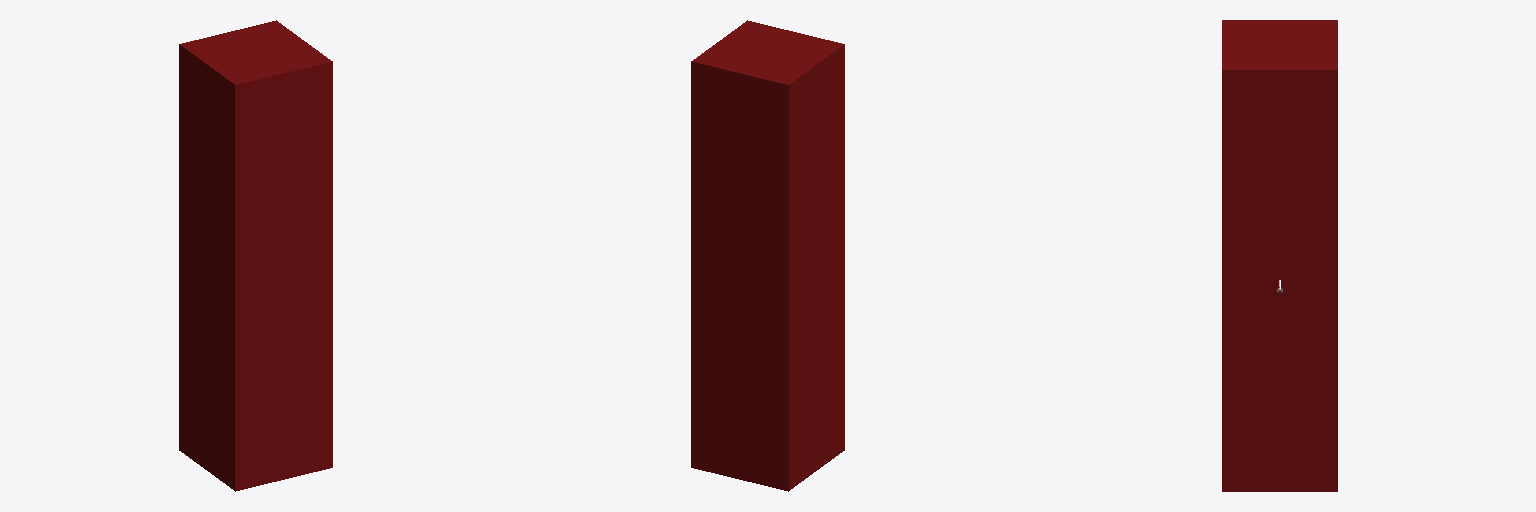
robot.urdf — valve:
<?xml version="1.0"?>
<robot name="valve">
  <link name="valve_base_link">
    <visual>
      <geometry>
        <box size="0.5 0.5 2.0"/>
      </geometry>
      <material name="redish">
	<color rgba="0.5 0.1 0.1 0.5"/>
      </material>
    </visual>
    <collision>
      <geometry>
        <box size="0.5 .5 2.0"/>
      </geometry>
    </collision>
    <inertial>
      <origin xyz="0 0 0"/>
      <mass value="10"/>
      <inertia ixx="1.0" ixy="0.0" ixz="0.0" iyy="1.0" iyz="0.0" izz="1.0"/>
    </inertial>
  </link>

  <link name="handle">
    <visual>
      <geometry>
	<mesh filename="package://wpi_drc_sim/meshes/valve_models/silver-valve-8-star.dae" scale="0.05 0.05 0.05"/>
      </geometry>
    </visual>
    <collision>
      <geometry>
        <mesh filename="package://wpi_drc_sim/meshes/valve_models/silver-valve-8-star.stl" scale="0.05 0.05 0.05"/>
      </geometry>
    </collision>
    <inertial>
      <origin xyz="0 0 0"/>
      <mass value="0.1"/>
      <inertia ixx="1.0" ixy="0.0" ixz="0.0" iyy="1.0" iyz="0.0" izz="1.0"/>
    </inertial>
  </link>
  
  <link name="rod">
    <visual>
      <geometry>
	<cylinder length="0.1" radius="0.005"/>
      </geometry>
      <origin rpy="0 1.57075 0" xyz="0 0 0"/>
      <material name="whiteish">
	<color rgba="1.0 1.0 1.0 1.0"/>
      </material>
    </visual>
    <collision>
      <geometry>
	<cylinder length="0.1" radius="0.005"/>
      </geometry>
      <origin rpy="0 1.57075 0" xyz="0 0 0"/>
    </collision>
    <inertial>
      <origin xyz="0 0 0"/>
      <mass value="0.1"/>
      <inertia ixx="1.0" ixy="0.0" ixz="0.0" iyy="1.0" iyz="0.0" izz="1.0"/>
    </inertial>
  </link>

  <joint name="body_to_rod" type="fixed">
    <parent link="valve_base_link"/>
    <child link="rod"/>
    <origin xyz="0.3 0.0 0.0"/>
  </joint>

  <joint name="rod_to_handle" type="continuous">
    <parent link="rod"/>
    <child link="handle"/>
    <axis xyz="1 0 0"/>
    <origin xyz="0.05 0 0"/>
  </joint>

  <!--gazebo>
    <turnGravityOff>true</turnGravityOff>
    <static>true</static>
  </gazebo-->

</robot>

--- Facts derived from the render (not from the file) ---
Views: 3 orthographic renders of the robot side by side, from view 1: azimuth 30°, elevation 25°; view 2: azimuth 150°, elevation 25°; view 3: azimuth 270°, elevation 25°.
Model valve with 3 links and 2 joints (1 continuous, 1 fixed), rooted at valve_base_link, posed all joints at 0.
Links seen in each view (by area): view 1: valve_base_link; view 2: valve_base_link; view 3: valve_base_link.
Link boxes in pixels (left/top/right/bottom): valve_base_link: left=179, top=20, right=332, bottom=491; valve_base_link: left=691, top=20, right=844, bottom=491; valve_base_link: left=1222, top=20, right=1337, bottom=491.
Bounding box of the posed robot: 0.6015 × 0.5 × 2 m (x, y, z).
1 mesh visuals loaded from 1 distinct referenced files (1 Collada DAE).